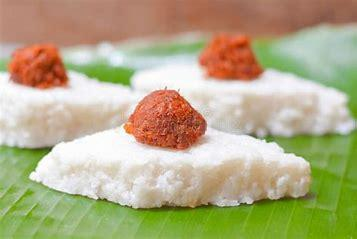Kiribath: (50, 70, 339, 213)
Lunu sambol: (129, 87, 214, 157)
